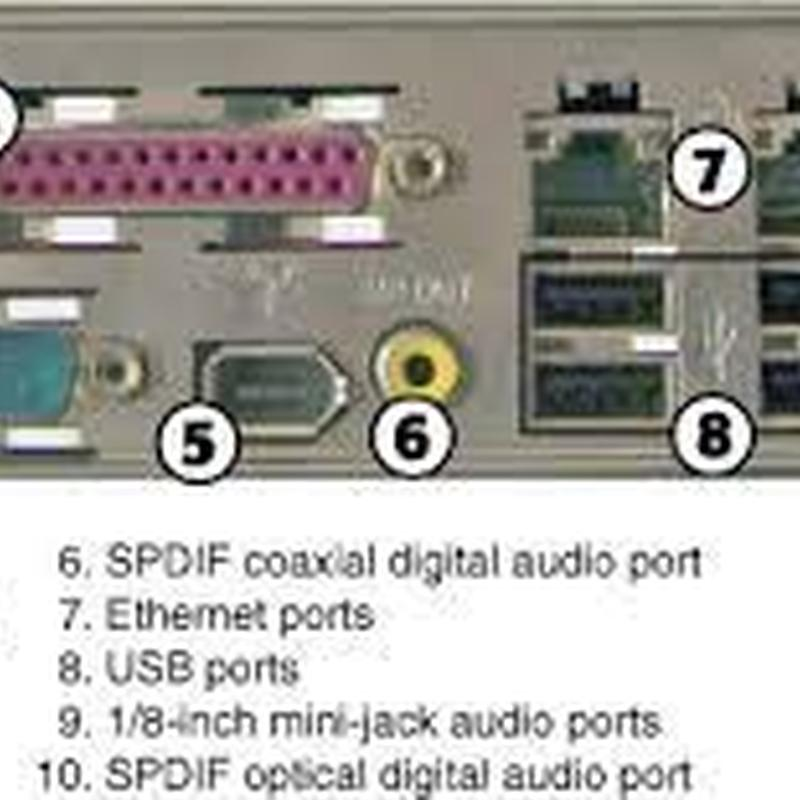ETHERNET: (512, 113, 675, 249)
PARALLEL: (0, 97, 441, 242)
USB: (517, 344, 688, 434), (522, 263, 679, 336)
VGA: (0, 302, 156, 445)
